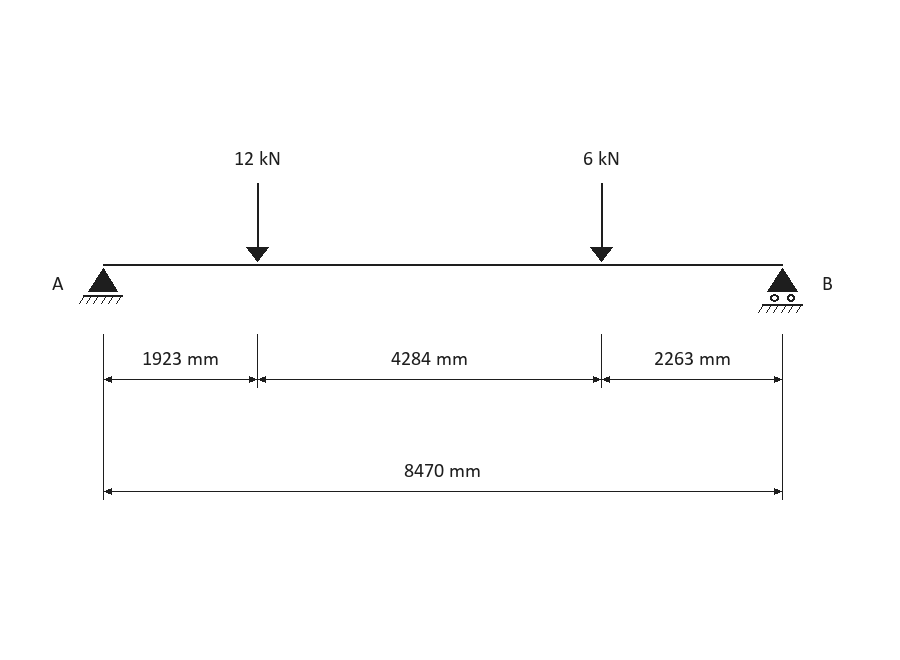pin_support: (79, 268, 123, 304)
point_load: (246, 183, 269, 262), (590, 183, 613, 262)
roller_support: (758, 268, 803, 313)
